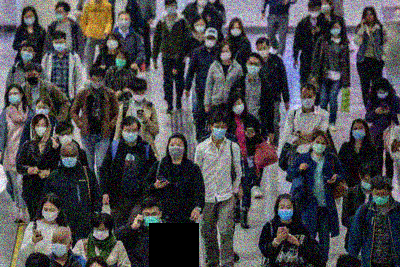with_mask: (52, 238, 70, 257), (143, 210, 161, 229), (279, 203, 296, 222), (61, 152, 79, 169), (42, 206, 60, 222), (372, 191, 392, 205), (93, 226, 111, 241), (170, 142, 185, 160), (313, 139, 328, 155), (214, 124, 228, 141), (302, 93, 316, 110), (124, 128, 140, 142), (247, 60, 261, 76), (25, 72, 40, 86), (8, 90, 22, 105), (233, 101, 247, 116), (353, 125, 367, 140), (363, 176, 376, 192), (60, 131, 73, 146), (36, 122, 48, 138), (21, 48, 34, 62), (107, 37, 119, 51), (36, 105, 50, 117), (376, 89, 391, 100), (53, 40, 66, 52), (91, 77, 104, 89), (134, 90, 146, 103), (258, 46, 271, 58), (120, 16, 130, 31), (116, 56, 128, 68), (205, 37, 217, 49), (220, 49, 232, 61), (167, 3, 178, 15), (231, 25, 242, 37), (330, 27, 343, 37), (25, 13, 35, 25), (310, 8, 322, 18), (322, 2, 331, 14), (55, 10, 65, 20), (196, 23, 207, 32)
without_mask: (366, 11, 376, 24)
